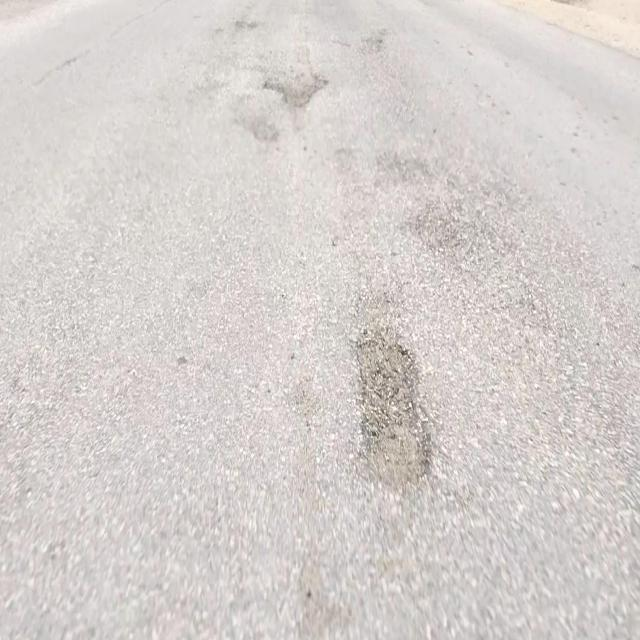Potholes: (356, 330, 437, 494), (259, 66, 330, 123)
